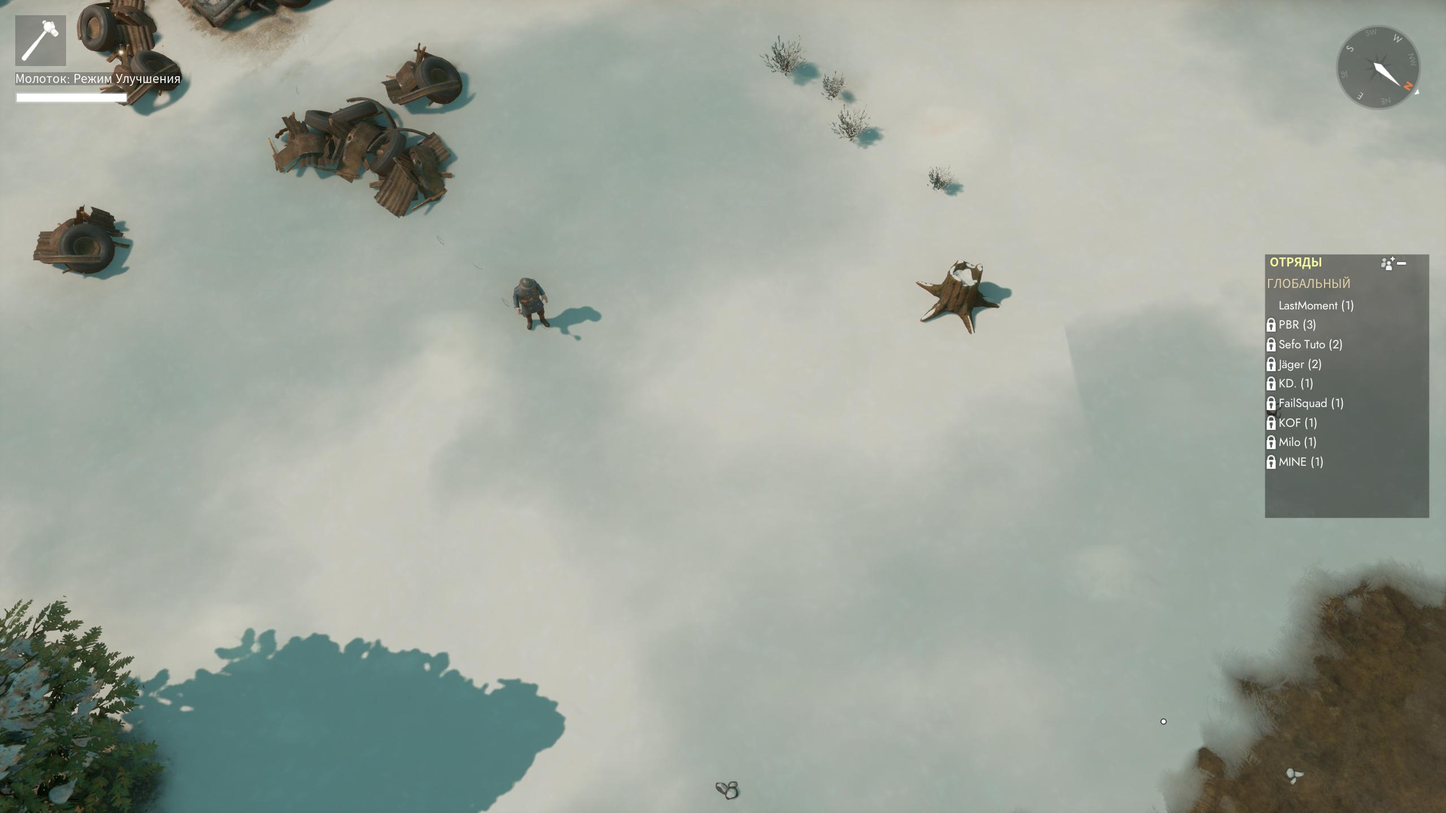player: (513, 278, 549, 329)
scrap_pile: (273, 97, 420, 182), (370, 126, 452, 216), (32, 206, 132, 273), (384, 46, 460, 104), (102, 50, 181, 104)
